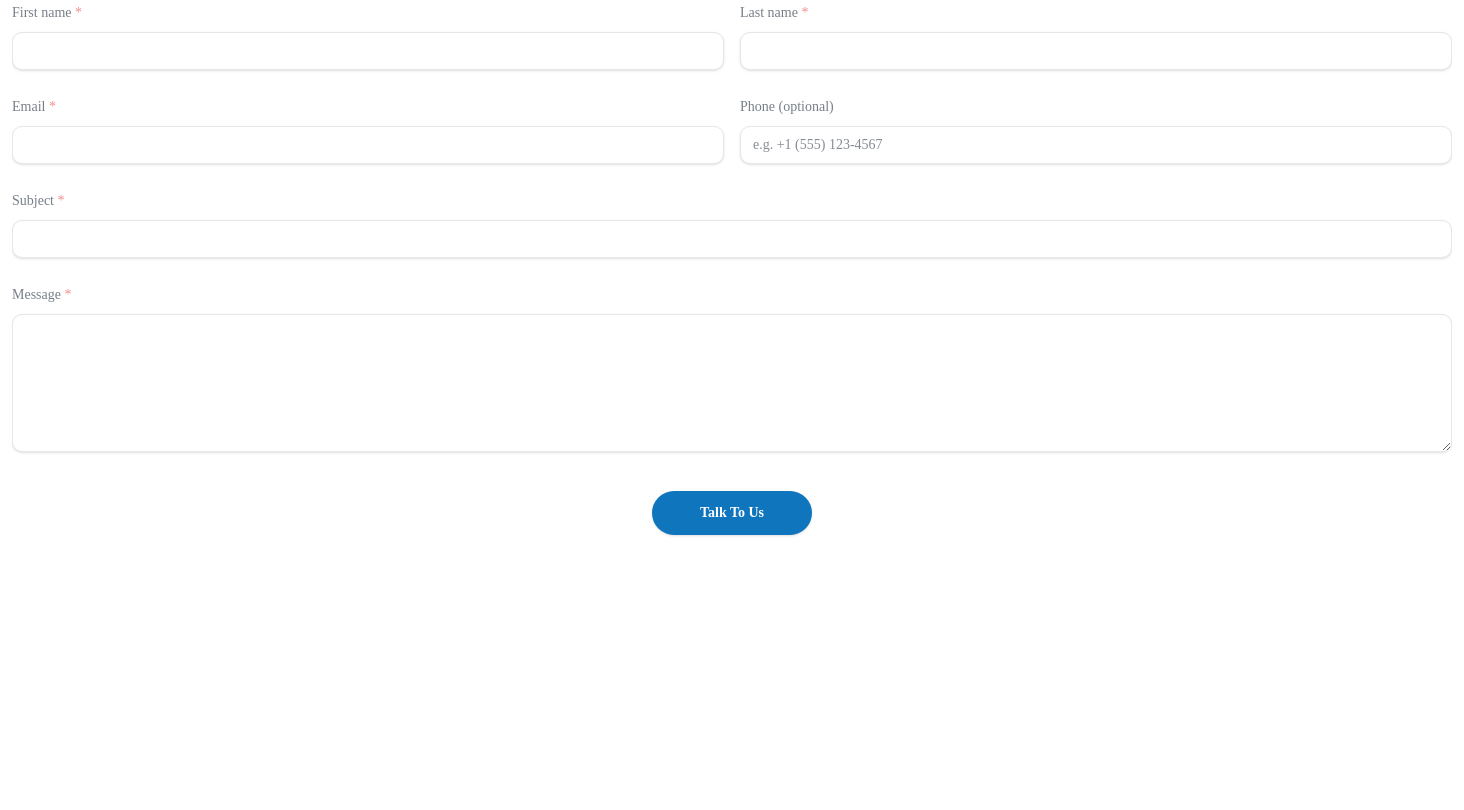
Test: ContactForm › prevents submission with empty required fields
The width and height of the screenshot is (1464, 810).
Click the button "Talk To Us".
click(732, 513)  # box [652,491,812,535]
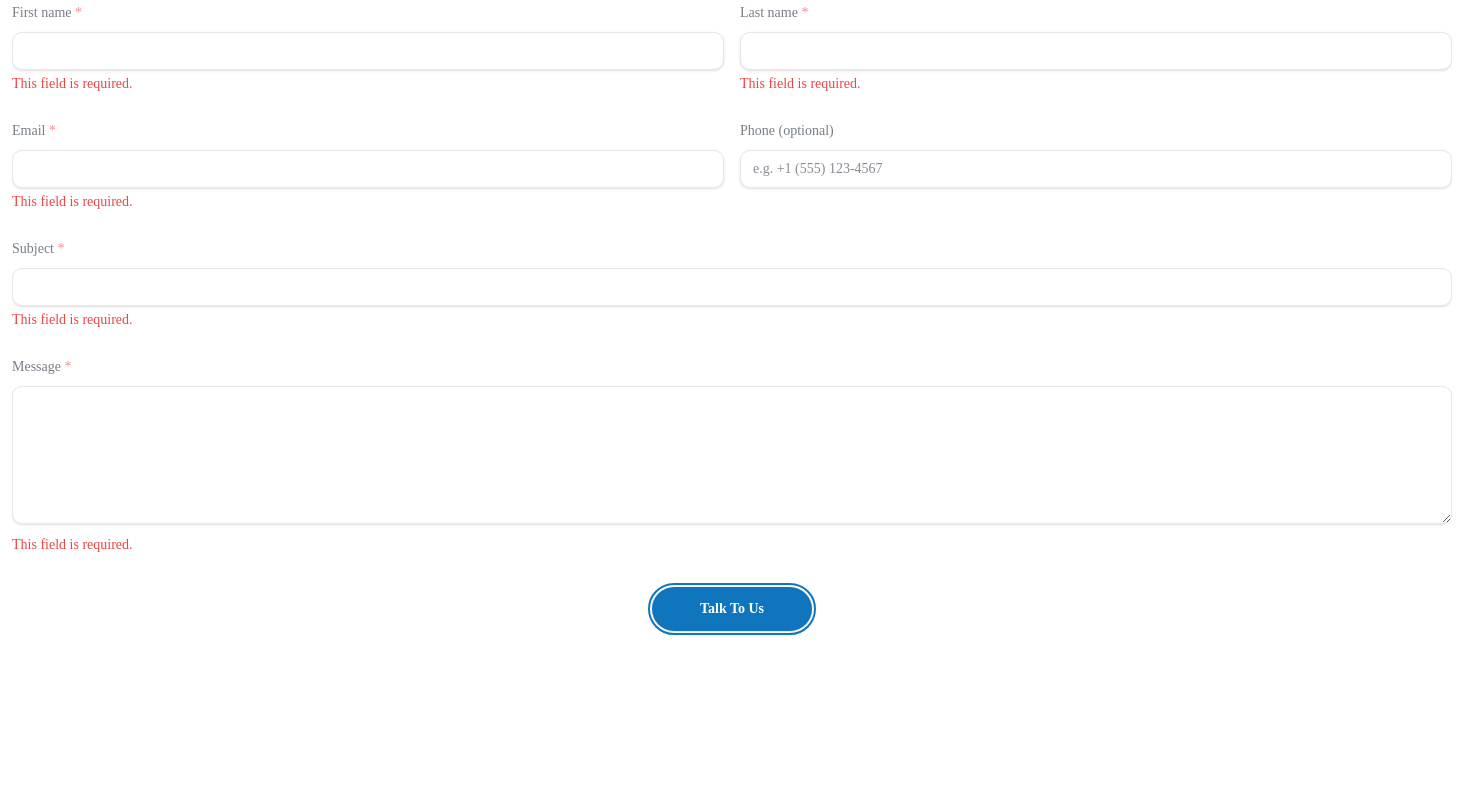
Expected: the text "This field is required." below "First name" is shown, [12,76,132,91]
